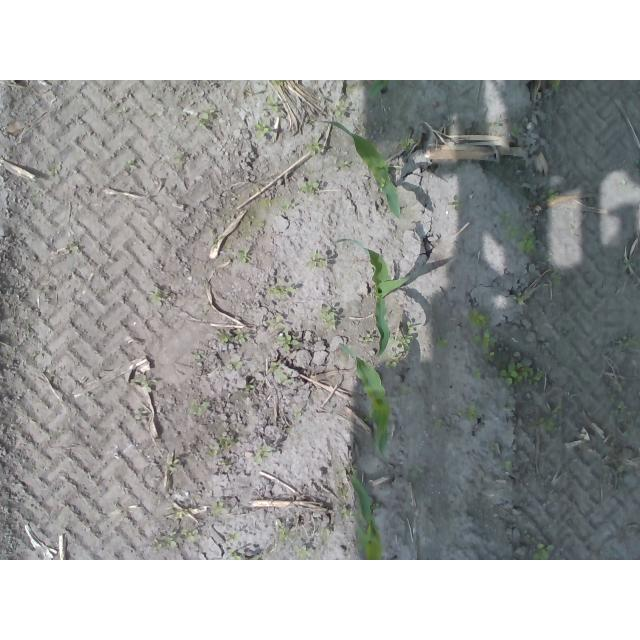Maize: (332, 239, 411, 361), (310, 118, 403, 221), (337, 339, 391, 457), (348, 473, 385, 560), (367, 81, 390, 100)
Weeds: (500, 211, 537, 251), (471, 308, 497, 360), (529, 401, 569, 432), (279, 528, 314, 560), (501, 360, 545, 384), (616, 398, 640, 430), (155, 531, 194, 550), (225, 529, 243, 560), (215, 329, 250, 344), (458, 404, 479, 425), (401, 318, 413, 351), (278, 333, 298, 352), (533, 542, 554, 560), (320, 305, 336, 328), (271, 361, 285, 384), (253, 446, 273, 462), (191, 400, 209, 416), (301, 179, 320, 193), (151, 287, 165, 305), (265, 96, 279, 113), (271, 288, 296, 297), (255, 122, 269, 138), (624, 335, 640, 348), (219, 435, 237, 446), (331, 103, 345, 117), (436, 335, 449, 350), (385, 353, 398, 368), (213, 502, 228, 515), (310, 255, 323, 269), (341, 508, 355, 521), (198, 111, 209, 127), (400, 136, 416, 146), (449, 199, 463, 210), (307, 142, 321, 153), (553, 81, 564, 92), (112, 104, 126, 112), (515, 293, 525, 304), (510, 127, 520, 138), (548, 190, 560, 198), (166, 464, 178, 472), (506, 461, 515, 471), (474, 369, 482, 380), (175, 152, 184, 161), (280, 201, 289, 210), (194, 351, 205, 358), (365, 334, 373, 343), (435, 419, 443, 428), (239, 255, 247, 263), (128, 160, 135, 167)
